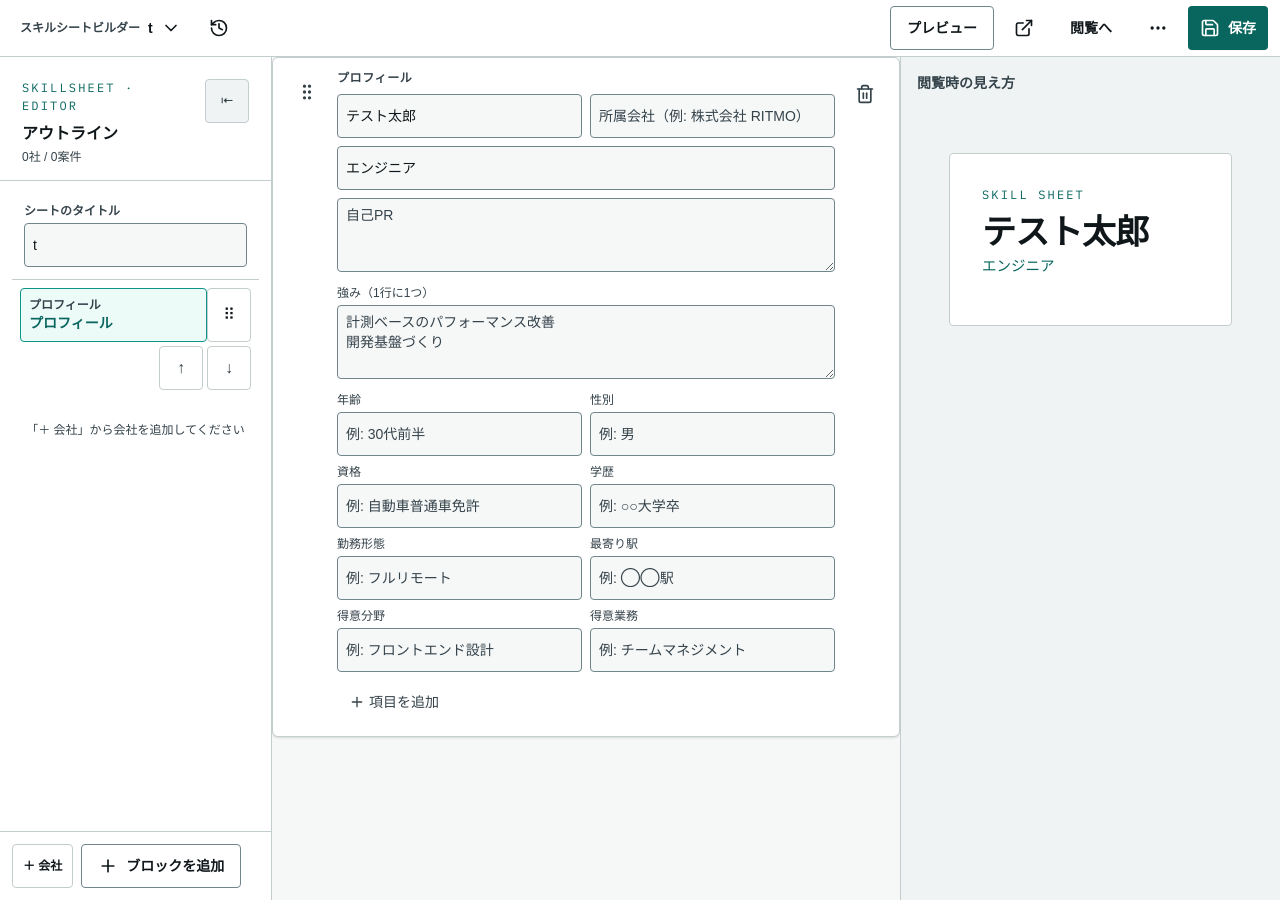
it: BuilderClient 自動保存 › markdown へ落ちないフィールド（プロフィールの所属会社）の編集でも dirty になり自動保存される
In the field labelled "所属会社": x=712, y=116 [590,94,835,138], type "株式会社 RITMO"
Wait 1500 ms
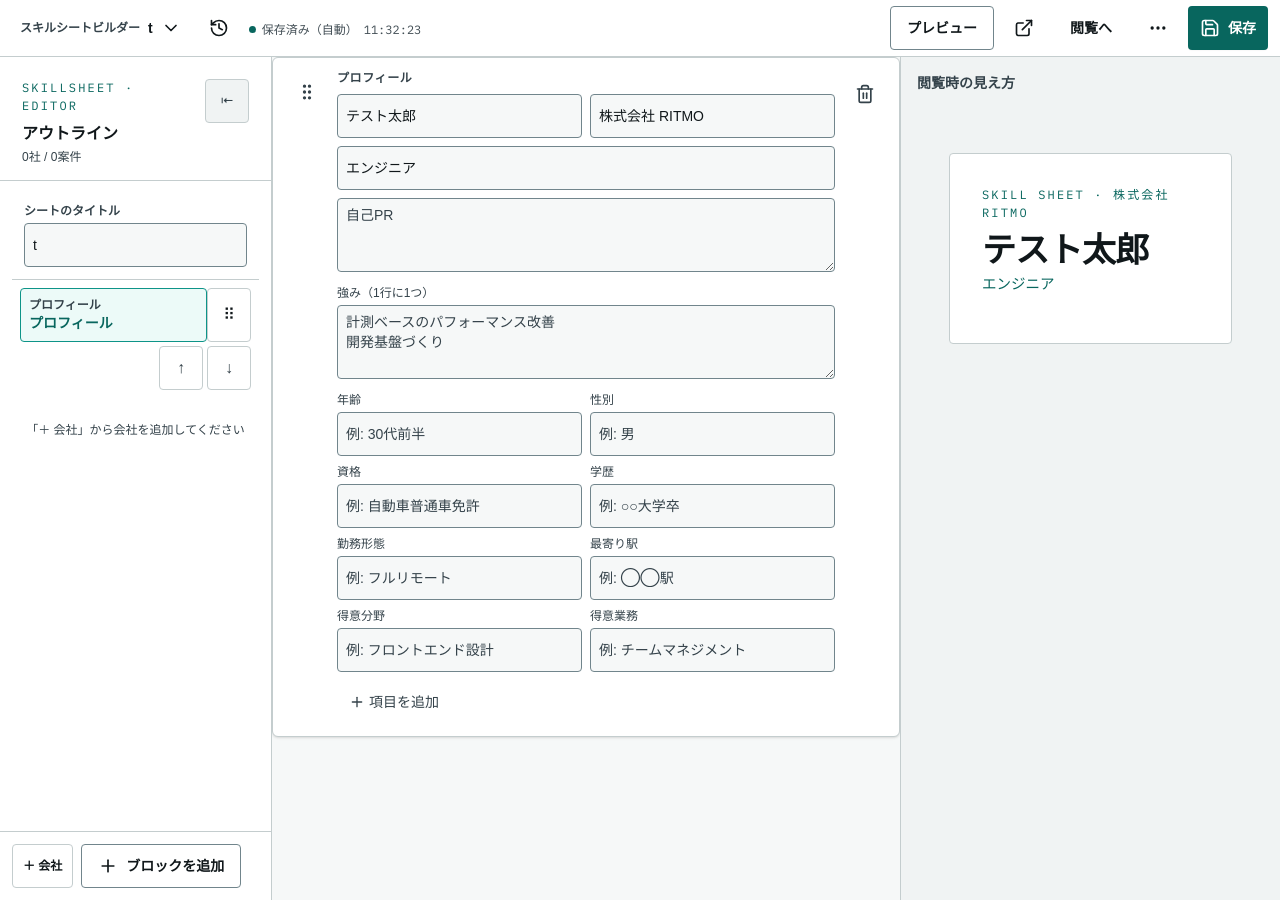
Expected: the text "未保存の変更" is shown, [262,22,358,38]
